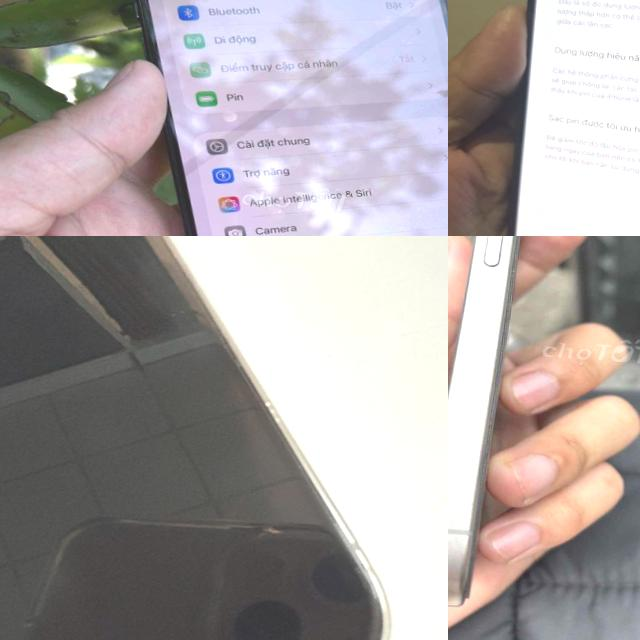scratch: (263, 398, 286, 428)
